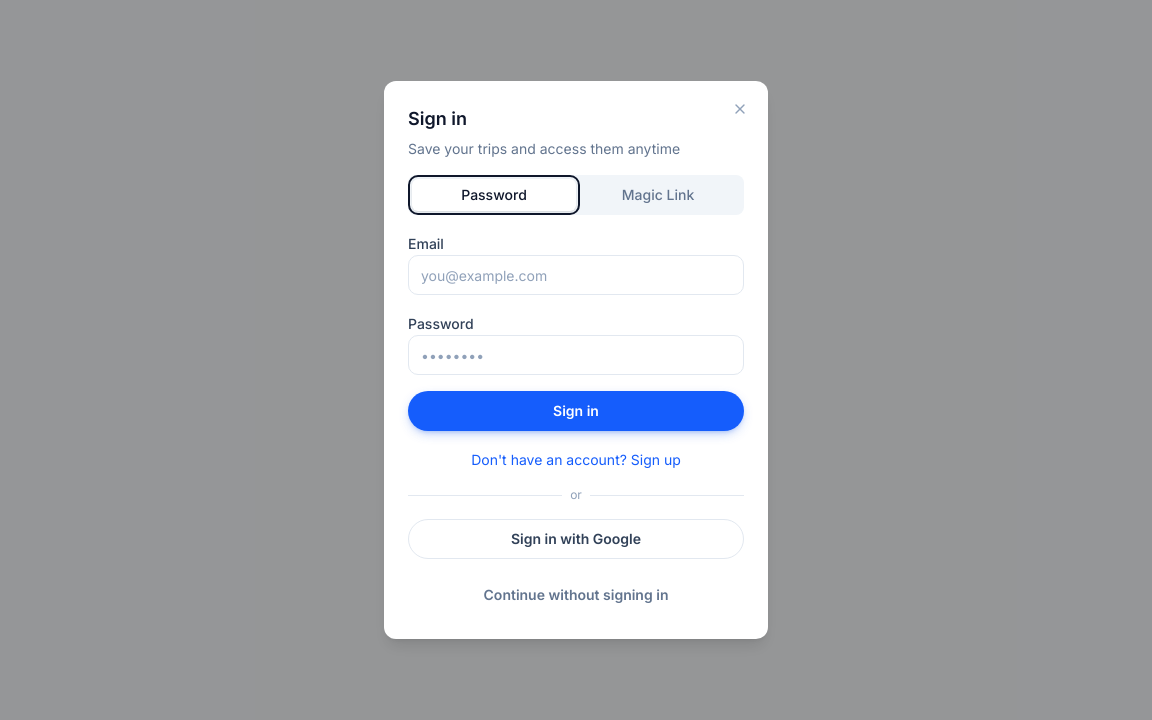
Test case: AuthModal › shows error when sign in fails
Step 1. Type "x@x.com" into the field labelled "Email" → (576, 275), box x1=408 y1=255 x2=744 y2=295
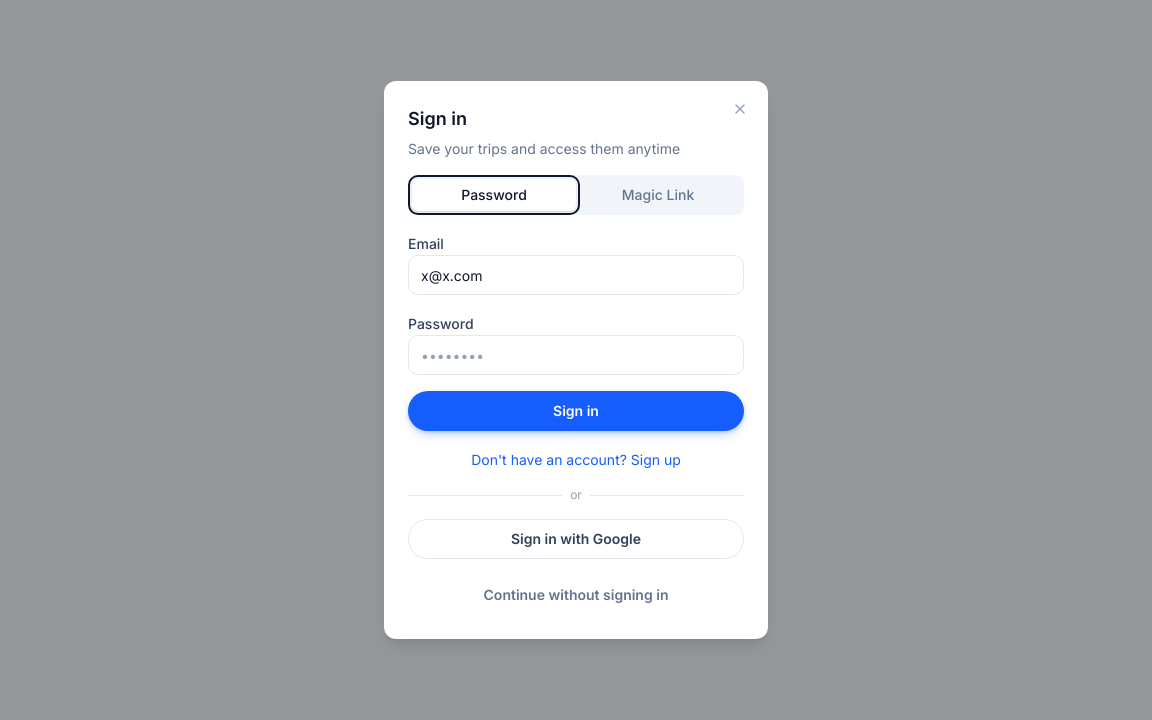
Step 2. Type "bad" into the password field labelled "Password" → (576, 355), box x1=408 y1=335 x2=744 y2=375
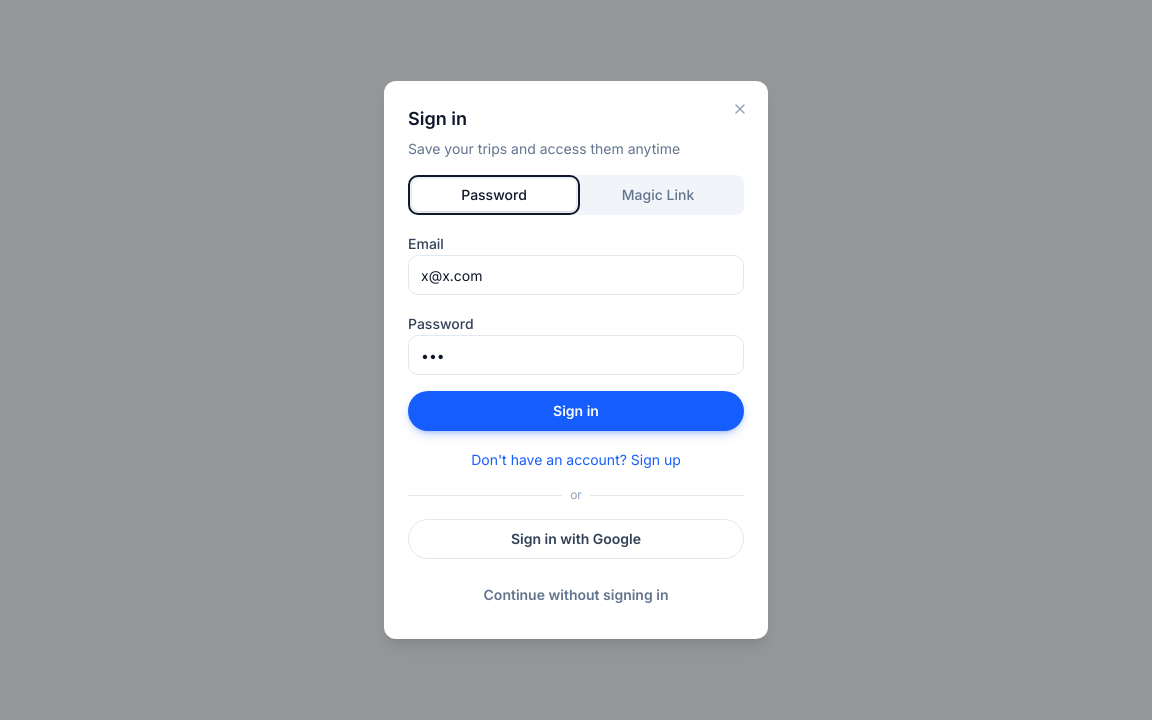
Step 3. Click the button "Sign in" → (576, 411), box x1=408 y1=391 x2=744 y2=431
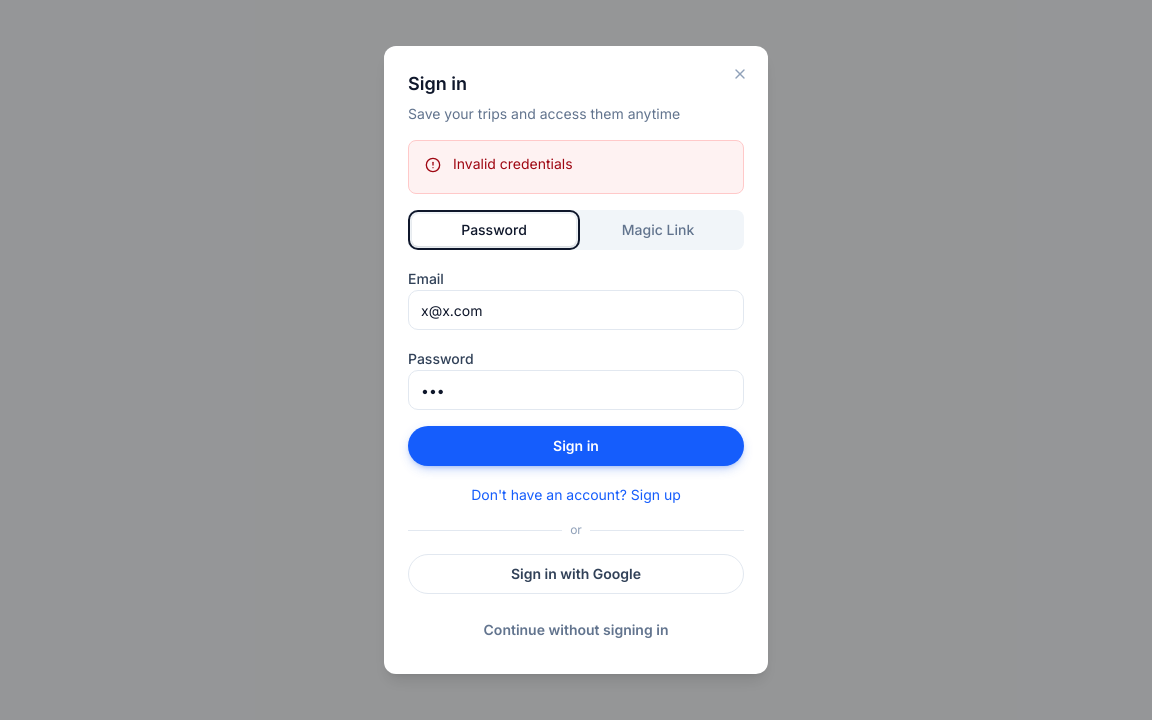
Now the message reads "Invalid credentials", box x1=453 y1=155 x2=573 y2=172
